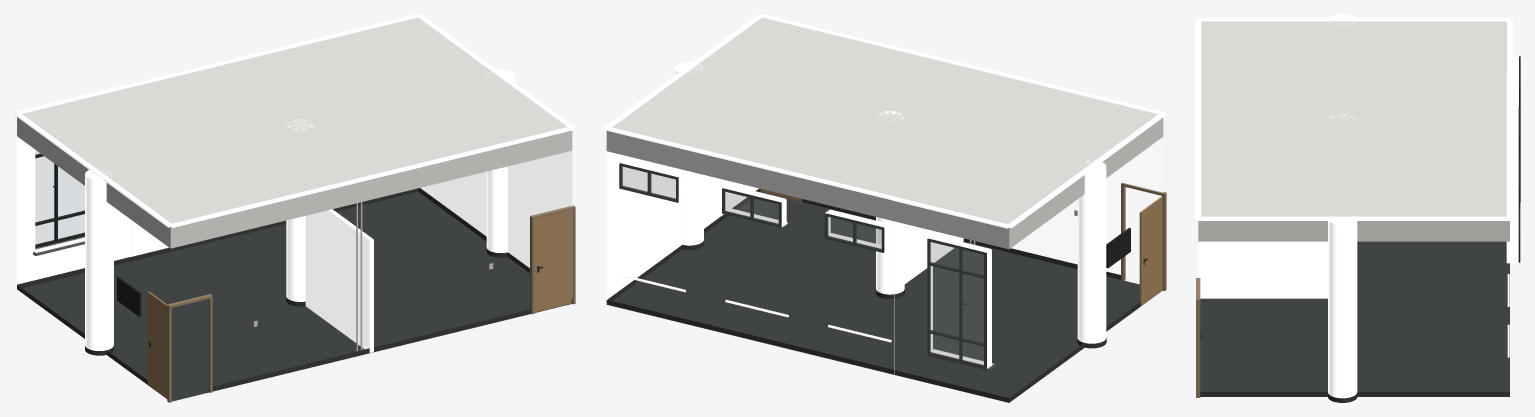
Rendered from G606_empty.glb.
3 renders of one model, left to right at view 1: azimuth 30°, elevation 25°; view 2: azimuth 150°, elevation 25°; view 3: azimuth 270°, elevation 25°, orthographic.
Parts seen in each view (by area): view 1: G606_Architecture, Wall_3_8, Wall_2_127, Column_1, Wall_1_83, Group_151, Wall_4_9, Wall_1_44, Group_141, Column_3, Column_2, Wall_3_133 (+13 smaller); view 2: G606_Architecture, Wall_2_127, Wall_1_6, Wall_1_83, Column_1, Wall_3_132, Wall_4_9, Group_141, Wall_1_97, Wall_1_107, Wall_1_117, Column_2 (+12 smaller); view 3: G606_Architecture, Wall_2_7, Column_3, Wall_2_129, Wall_2_128, Wall_4_159, Wall_3_134, Wall_1_117, Wall_3_147, Wall_1_83, Wall_1_97, Wall_1_107 (+2 smaller).
Boxes of the visible parts, x1,y1,x2,y2 form: G606_Architecture: (17, 18, 571, 401); Wall_3_8: (163, 125, 560, 248); Wall_2_127: (420, 151, 572, 298); Column_1: (85, 168, 113, 350); Wall_1_83: (33, 149, 84, 255); Group_151: (534, 210, 571, 312); Wall_4_9: (24, 122, 182, 247); Wall_1_44: (17, 136, 34, 284); Group_141: (147, 291, 167, 398); Column_3: (486, 70, 515, 252); Column_2: (286, 119, 314, 301); Wall_3_133: (209, 309, 530, 391); G606_Architecture: (607, 18, 1157, 402); Wall_2_127: (606, 151, 758, 299); Wall_1_6: (606, 131, 1016, 249); Wall_1_83: (926, 234, 995, 370); Column_1: (1077, 160, 1106, 343); Wall_3_132: (1011, 165, 1124, 274); Wall_4_9: (997, 123, 1156, 248); Group_141: (1139, 196, 1162, 306); Wall_1_97: (824, 209, 889, 252); Wall_1_107: (722, 184, 786, 227); Wall_1_117: (619, 159, 683, 202); Column_2: (876, 111, 904, 294); G606_Architecture: (1198, 21, 1509, 402); Wall_2_7: (1198, 213, 1509, 241); Column_3: (1328, 213, 1357, 398); Wall_2_129: (1198, 216, 1509, 220); Wall_2_128: (1200, 392, 1509, 396); Wall_4_159: (1198, 18, 1509, 21); Wall_3_134: (1195, 38, 1201, 198); Wall_1_117: (1509, 208, 1520, 262); Wall_3_147: (1196, 278, 1200, 397); Wall_1_83: (1512, 55, 1520, 202); Wall_1_97: (1512, 106, 1520, 157); Wall_1_107: (1512, 157, 1520, 208).
Size of the model in its own units: 9.93 by 3.92 by 6.47.
